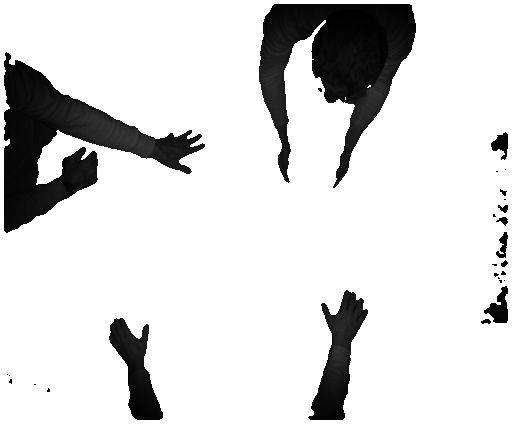fist: (59, 148, 103, 192)
hand: (320, 288, 367, 343), (104, 312, 151, 365), (158, 128, 207, 175)
spine: (328, 148, 359, 191), (272, 138, 295, 183)
